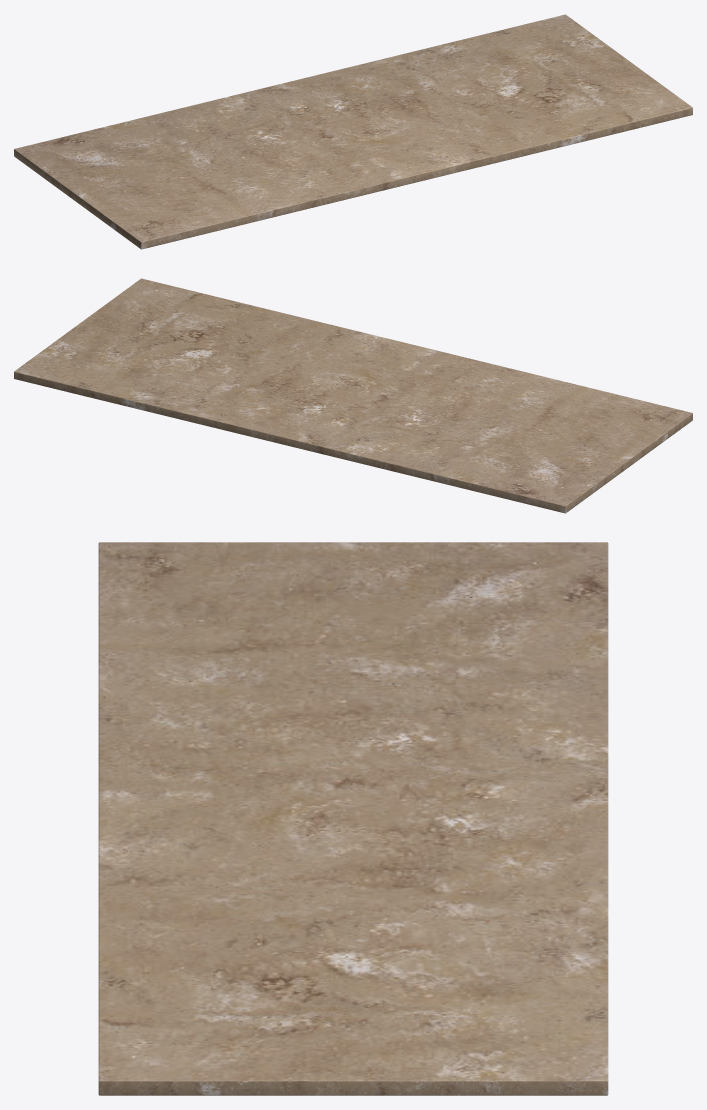
File: countertop-3m-by-1.2m.glb
3 renders of one model, top to bottom at view 1: azimuth 30°, elevation 25°; view 2: azimuth 150°, elevation 25°; view 3: azimuth 270°, elevation 25°, orthographic. The views are drawn at different scales.
Visible parts, largest first — view 1: Cube.001; view 2: Cube.001; view 3: Cube.001.
Boxes of the visible parts, bbox=[...] form: Cube.001: bbox=[14, 14, 692, 249]; Cube.001: bbox=[14, 278, 692, 513]; Cube.001: bbox=[98, 542, 608, 1095].
Bounding box in the file's own units: 3 × 0.0399 × 1.2.
1 material, 1 textured.
